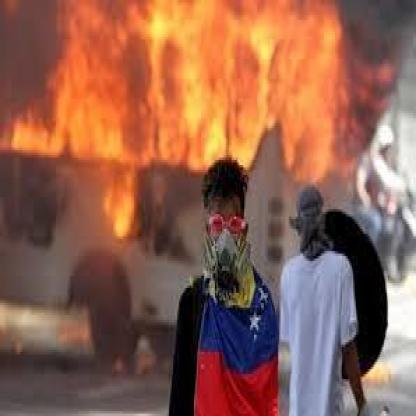fire: (1, 0, 391, 234)
